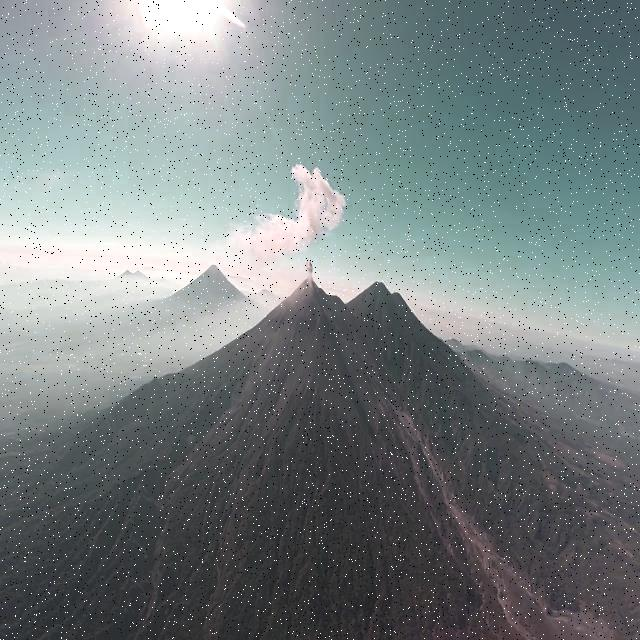Plume: (230, 162, 348, 263), (304, 258, 312, 280)
Summit: (287, 275, 324, 297)
